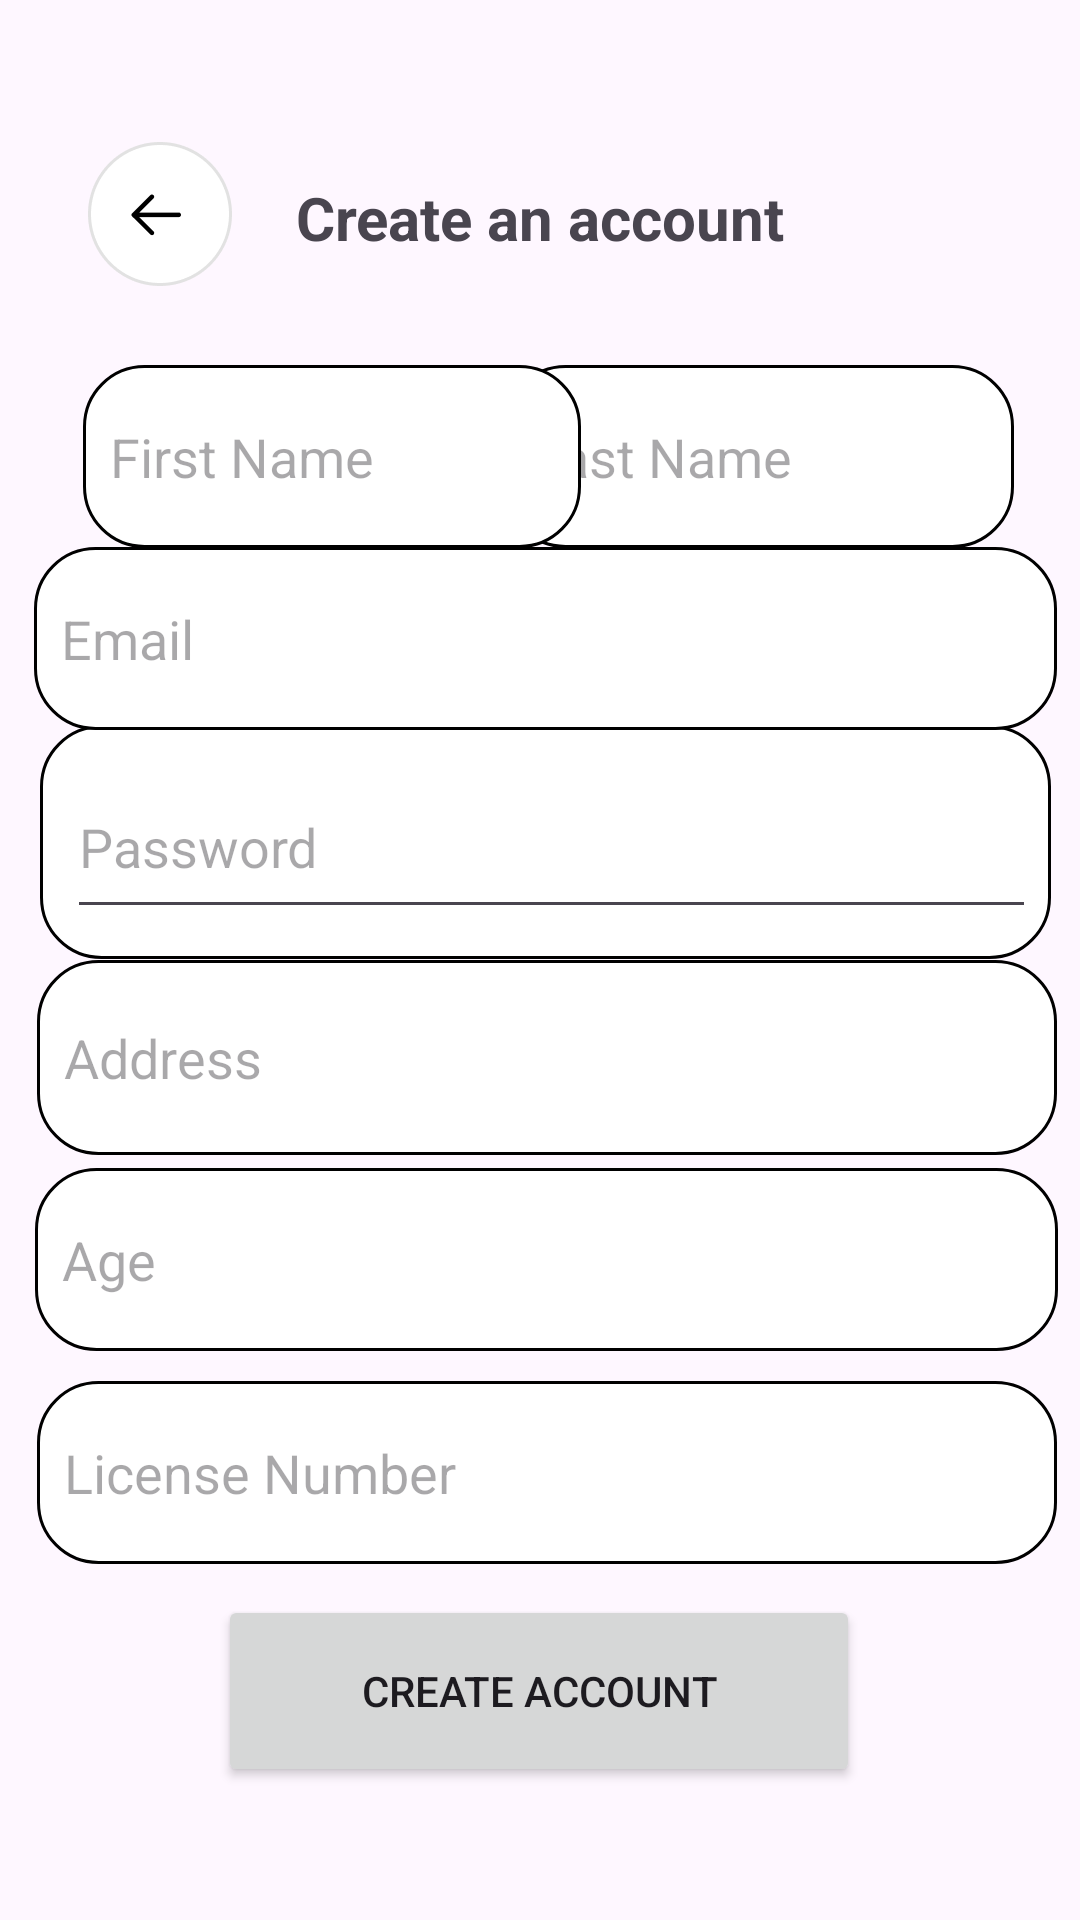

Icon bounding boxes for this 1080x1920 phone screenshot, format (x1, y1, x2, y2):
backdefault: (88, 142, 232, 286)
